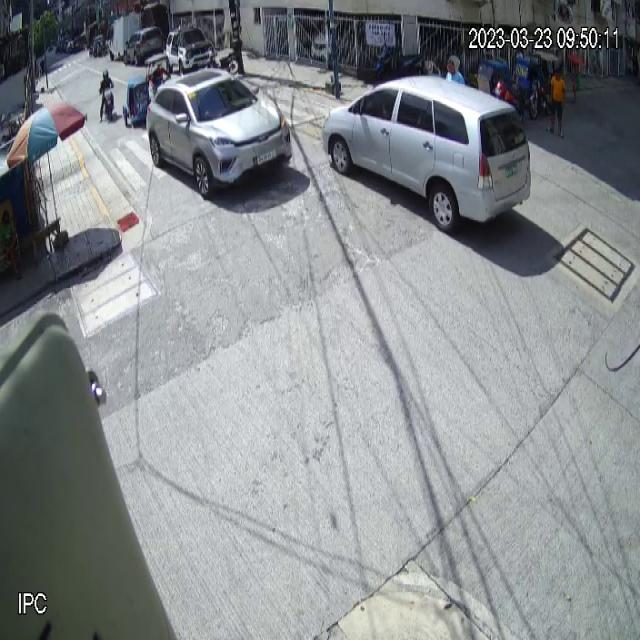Car: (322, 74, 533, 240), (144, 65, 294, 202)
